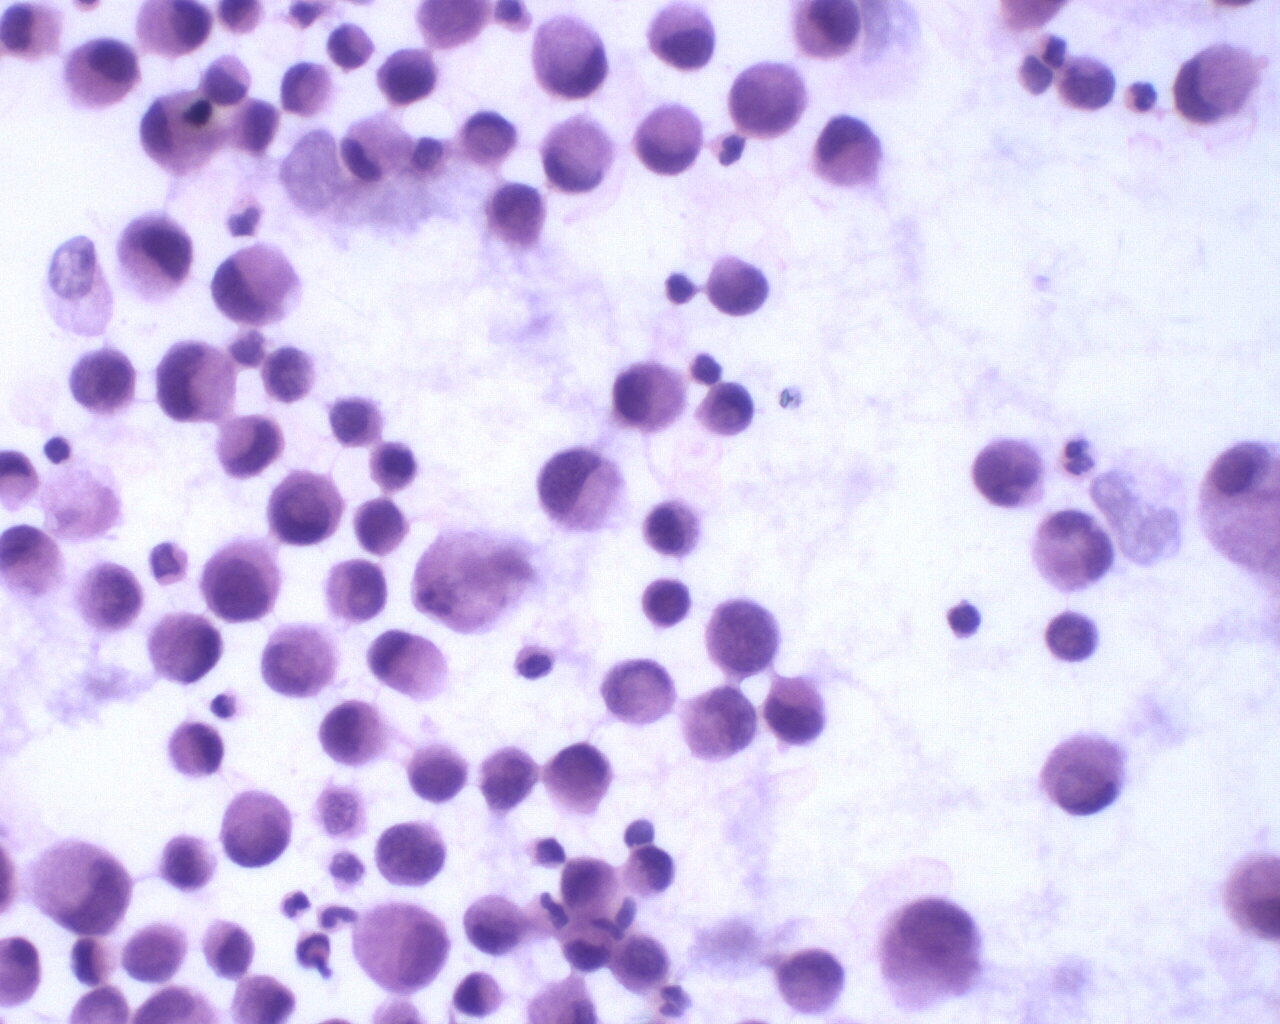ab: (1039, 729, 1128, 818), (153, 331, 235, 427), (199, 532, 284, 623), (700, 592, 785, 683), (366, 812, 455, 890), (139, 612, 229, 689), (263, 468, 346, 551), (726, 59, 810, 139), (217, 789, 298, 870), (971, 433, 1051, 513), (69, 558, 146, 639), (772, 944, 850, 1016), (69, 341, 140, 417), (118, 920, 194, 990), (760, 673, 830, 748), (319, 557, 390, 628), (479, 174, 546, 247), (403, 740, 473, 809), (350, 491, 414, 563), (609, 930, 673, 998), (375, 44, 443, 104), (639, 569, 695, 630)
histo: (629, 102, 708, 179), (339, 107, 411, 188)
meso: (350, 899, 457, 998), (59, 36, 146, 110), (611, 356, 694, 432), (639, 1, 721, 75)
neutro: (1119, 76, 1166, 117), (315, 898, 360, 937)
